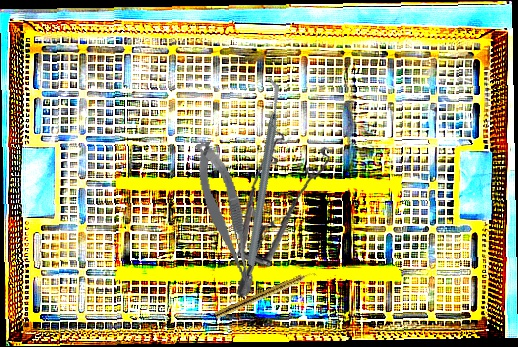Chopper: (179, 75, 344, 268)
Handpiece: (213, 268, 319, 321)
Micro Scissor: (191, 137, 260, 300)
Speculum: (219, 123, 349, 298)
